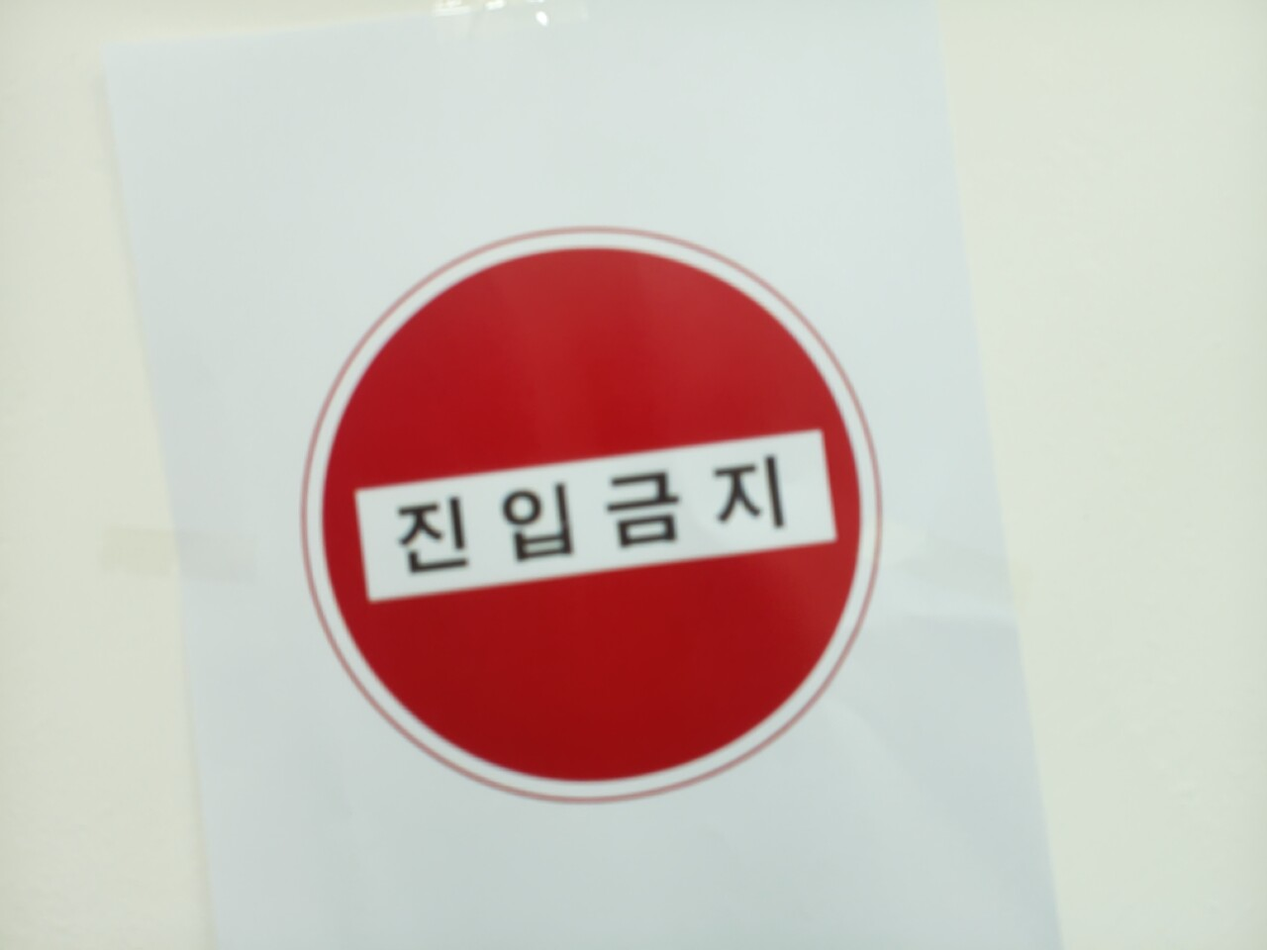do_not_enter: (307, 235, 875, 796)
